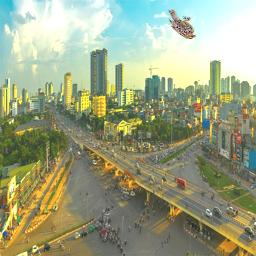Sparrow: (168, 9, 196, 39)
